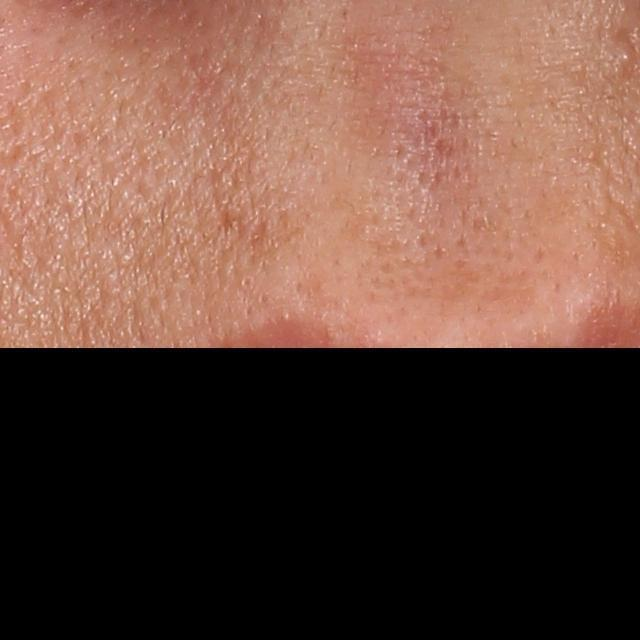comedo: (238, 274, 254, 292)
